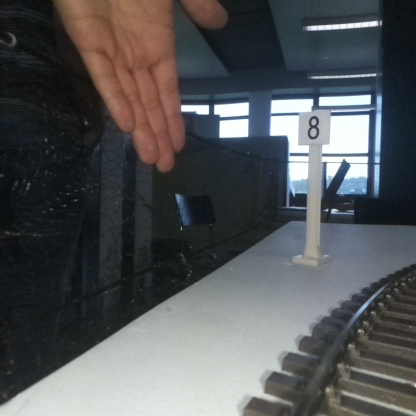white-info-8: (298, 110, 330, 262)
